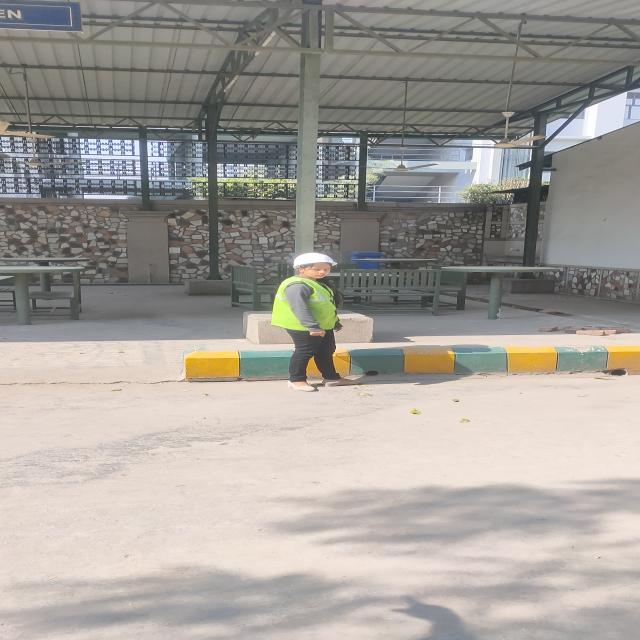safe: (270, 253, 339, 391)
